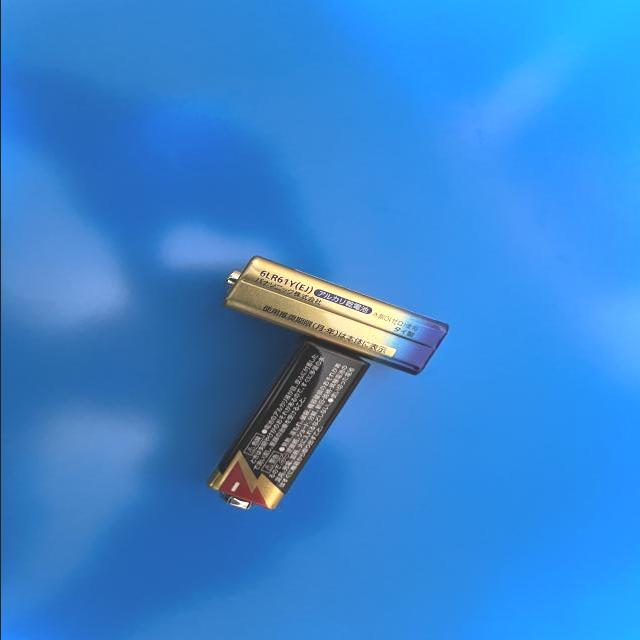9V: (205, 341, 370, 512), (220, 256, 450, 376)
